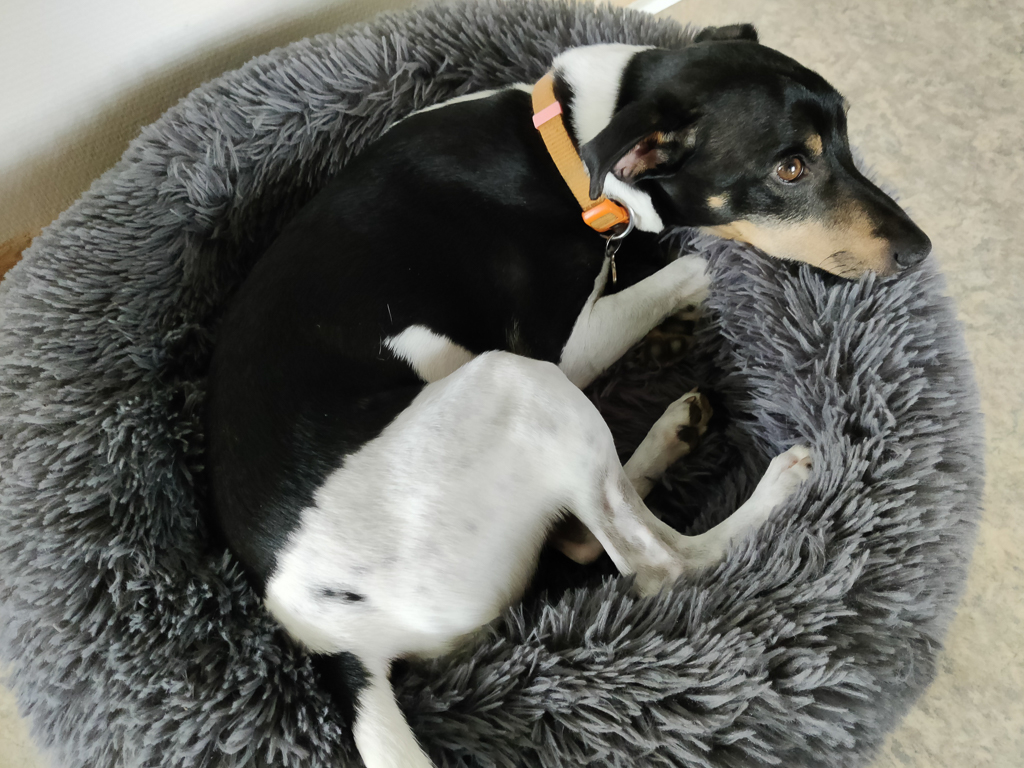Dog: (137, 12, 965, 768)
